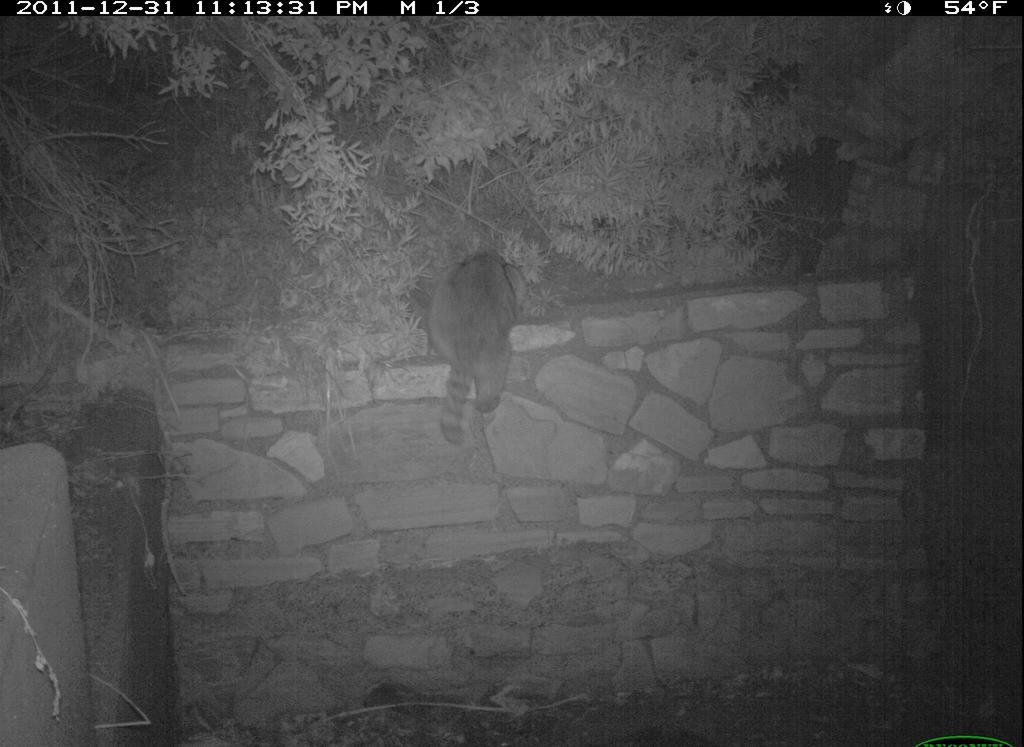raccoon: (423, 242, 520, 456)
